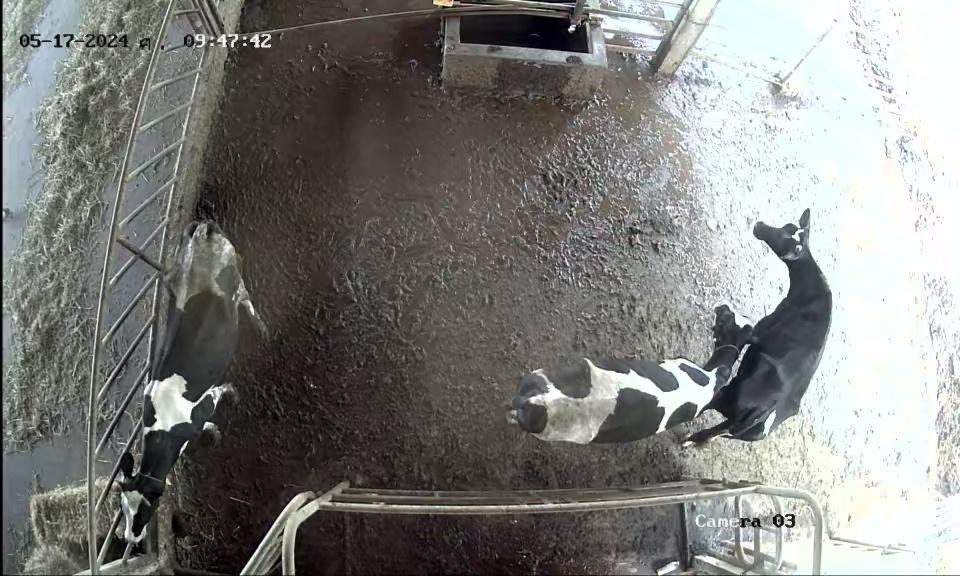stand: (112, 191, 268, 560), (490, 287, 743, 469), (692, 199, 852, 480)
